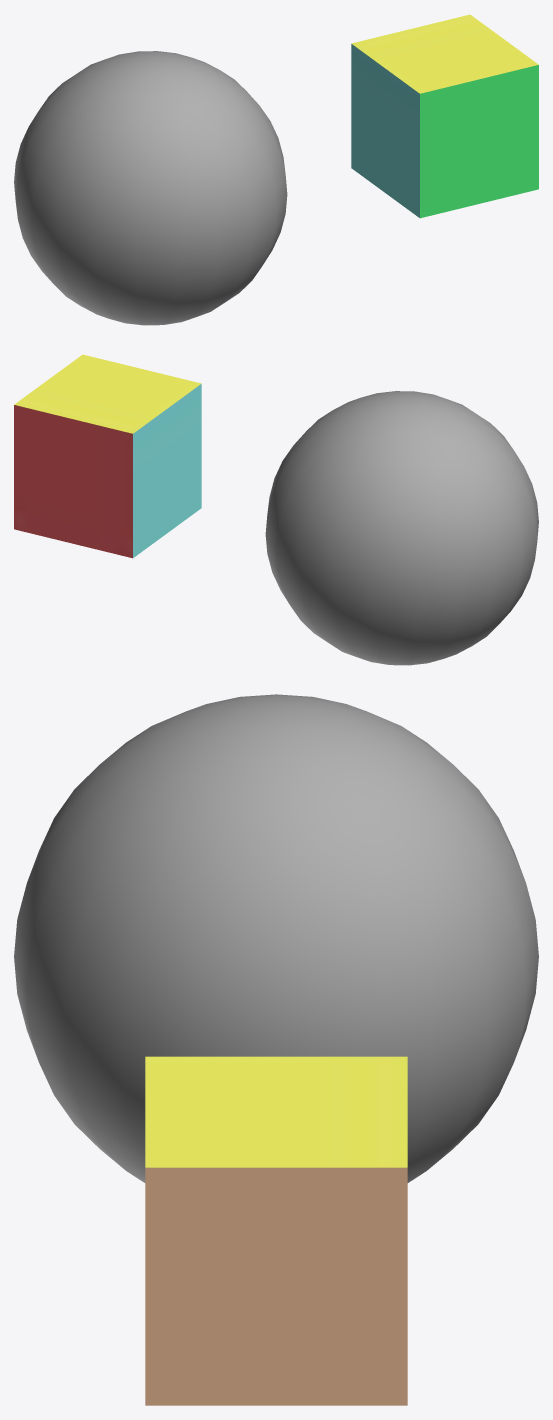
File: template.fbx
3 renders of one model, top to bottom at view 1: azimuth 30°, elevation 25°; view 2: azimuth 150°, elevation 25°; view 3: azimuth 270°, elevation 25°, orthographic. The views are drawn at different scales.
Parts seen in each view (by area): view 1: sphere, cube; view 2: sphere, cube; view 3: sphere, cube.
Part boxes in pixels (x1=…): sphere: x1=14, y1=51, x2=287, y2=325; cube: x1=351, y1=14, x2=538, y2=218; sphere: x1=265, y1=391, x2=538, y2=665; cube: x1=14, y1=354, x2=201, y2=558; sphere: x1=14, y1=694, x2=538, y2=1182; cube: x1=145, y1=1056, x2=407, y2=1405.
Size of the model in its own units: 3.97 by 2 by 2.
